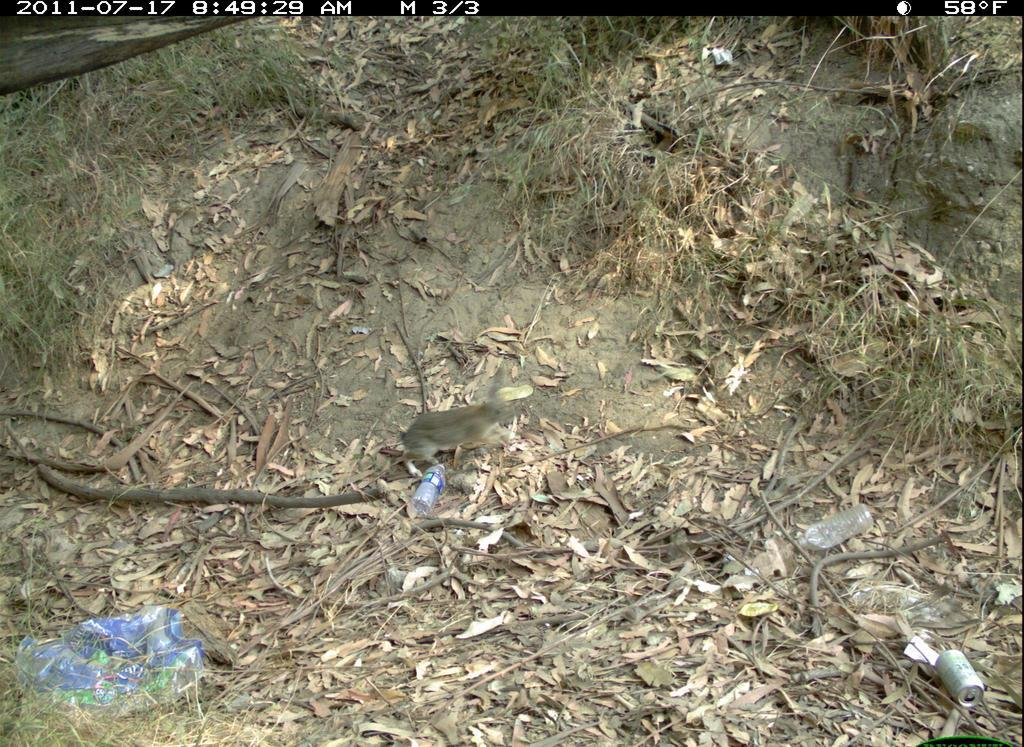rabbit: (391, 374, 542, 482)
